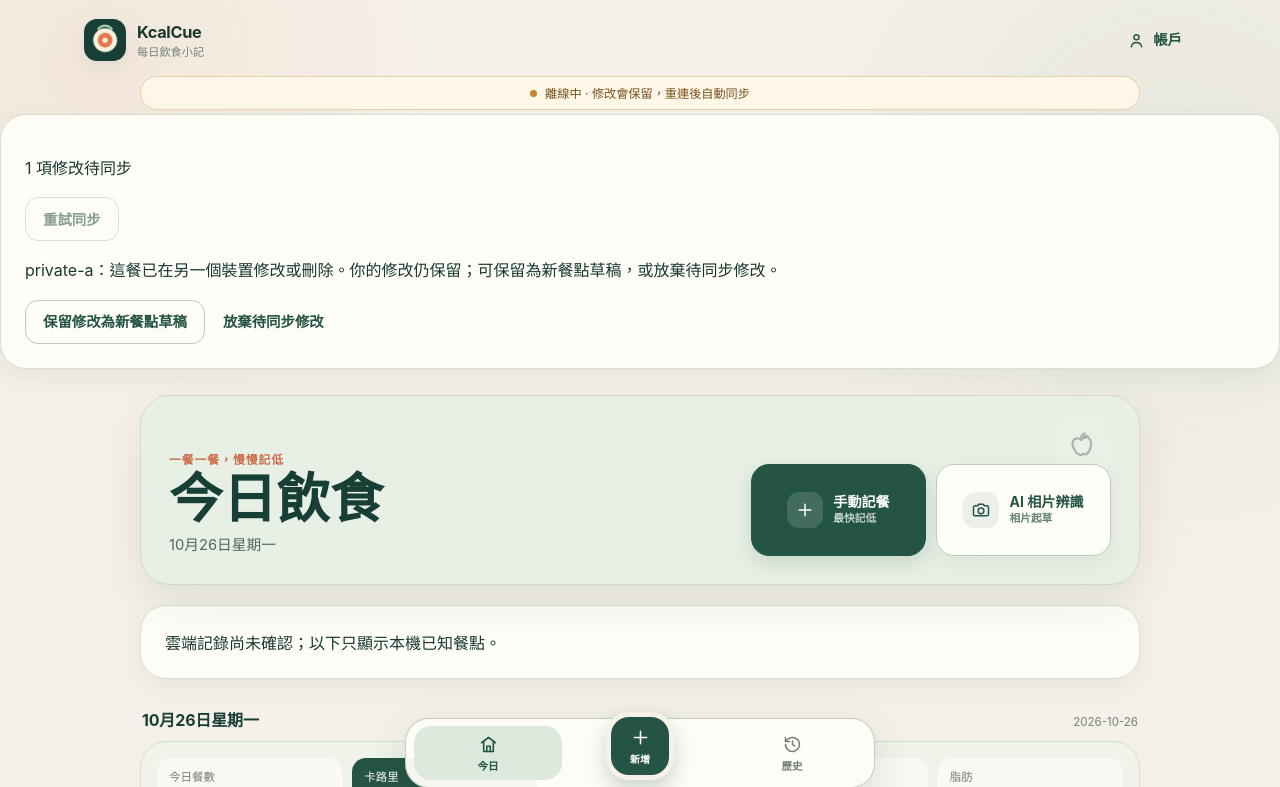
Test case: never renders, caches, or discards an old account's conflict under the next account
Click the button "保留修改為新餐點草稿".
click(115, 322)  # box x1=25 y1=300 x2=205 y2=344
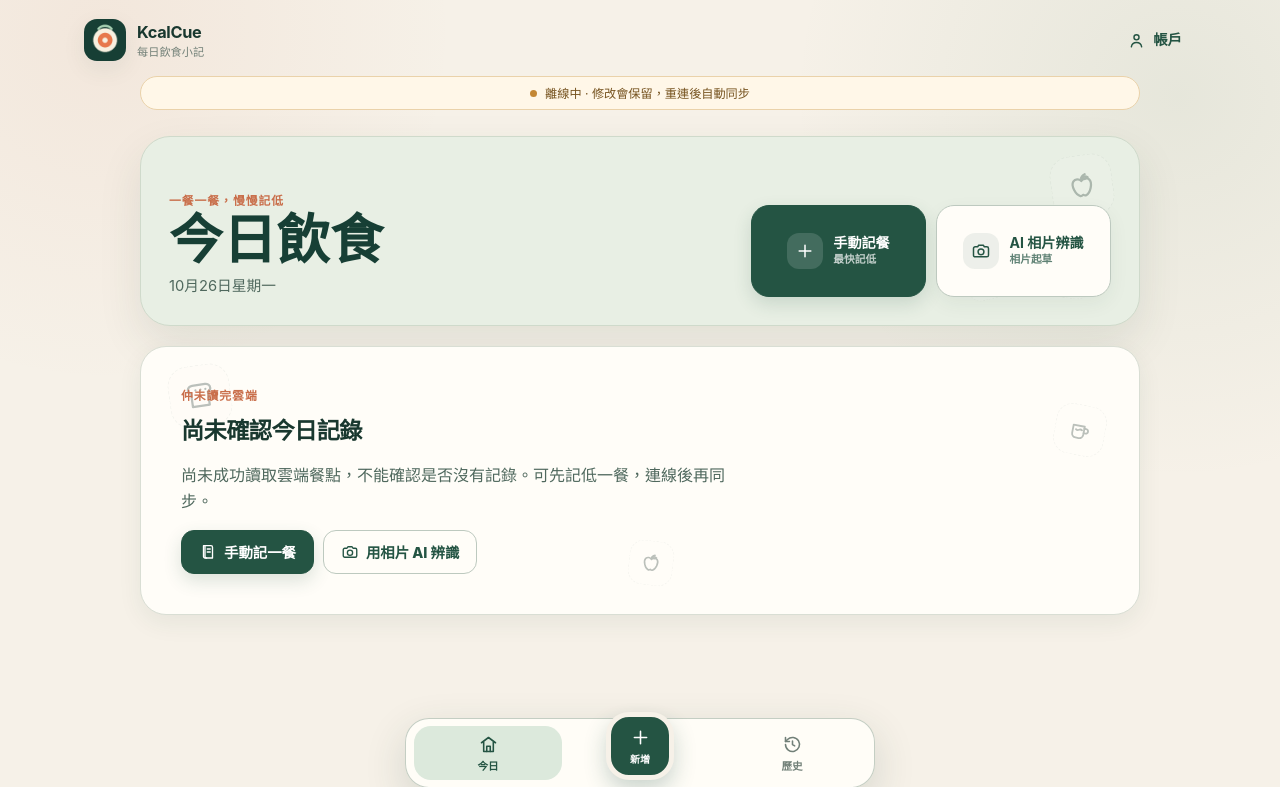
Check: the button with aria-label "帳戶與安裝" is enabled, box x1=1113 y1=18 x2=1196 y2=62
Check: the heading "尚未確認今日記錄" is shown, box x1=181 y1=416 x2=362 y2=444
